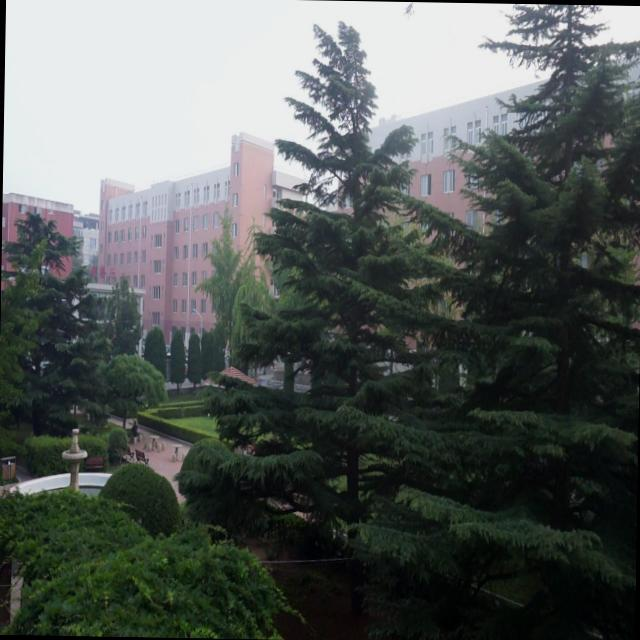drone: (400, 3, 414, 20)
